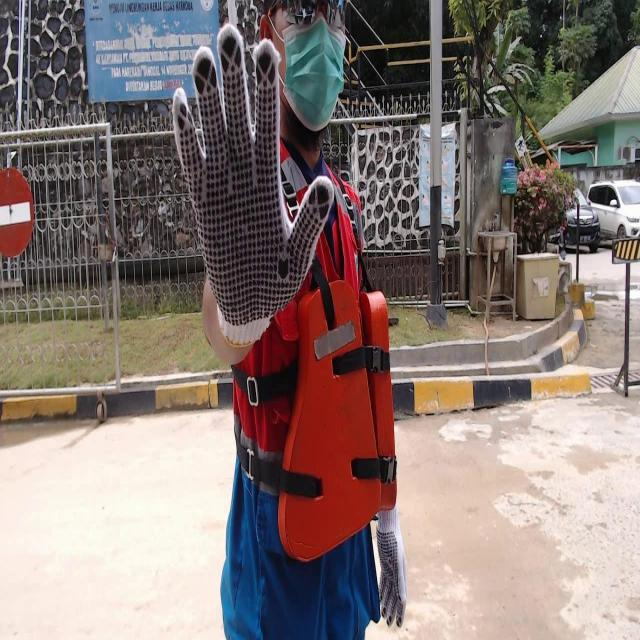Vest: (278, 277, 400, 583)
